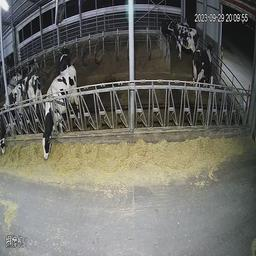cow: (39, 64, 95, 160), (0, 84, 30, 160), (190, 43, 219, 95), (168, 17, 199, 55), (20, 63, 37, 100), (55, 40, 72, 69)
